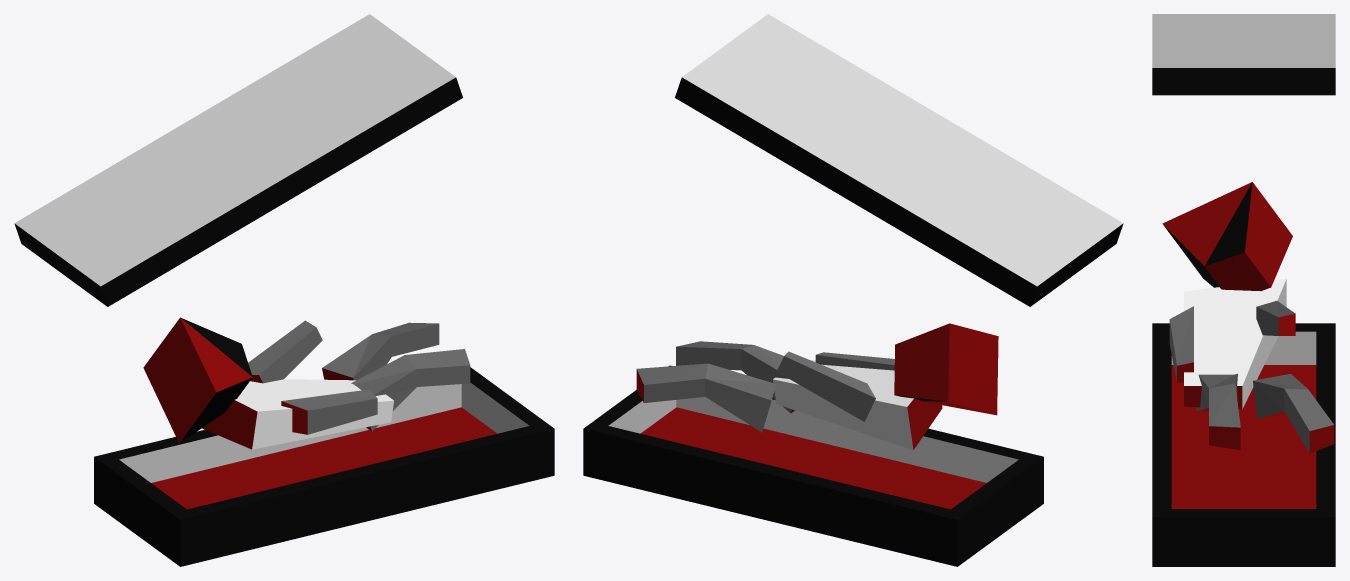
3 views of the same model, side by side, from view 1: azimuth 30°, elevation 25°; view 2: azimuth 150°, elevation 25°; view 3: azimuth 270°, elevation 25° (orthographic). The views are drawn at different scales.
Visible parts, largest first — view 1: Group8, Group1, Group2, Group3, Group6, Group7, Group4, Group5; view 2: Group8, Group1, Group2, Group3, Group7, Group5, Group6, Group4; view 3: Group1, Group8, Group2, Group3, Group7, Group6, Group4, Group5.
Part boxes in pixels (box(x1,y1,x2,y2)): Group8: box(14, 14, 462, 306); Group1: box(94, 367, 554, 566); Group2: box(143, 317, 252, 443); Group3: box(202, 379, 393, 449); Group6: box(351, 349, 470, 431); Group7: box(322, 322, 439, 380); Group4: box(281, 389, 377, 434); Group5: box(248, 320, 322, 383); Group8: box(675, 14, 1123, 306); Group1: box(583, 365, 1043, 566); Group2: box(894, 323, 998, 415); Group3: box(773, 360, 942, 450); Group7: box(636, 363, 775, 432); Group5: box(776, 351, 875, 421); Group6: box(676, 341, 794, 413); Group4: box(815, 352, 894, 370); Group1: box(1152, 323, 1335, 566); Group8: box(1152, 14, 1335, 95); Group2: box(1162, 182, 1292, 291); Group3: box(1184, 278, 1286, 409); Group7: box(1253, 374, 1334, 453); Group6: box(1196, 373, 1240, 449); Group4: box(1169, 306, 1193, 382); Group5: box(1256, 301, 1295, 335).
Size of the model in its own units: 3.03 by 2.7 by 1.
